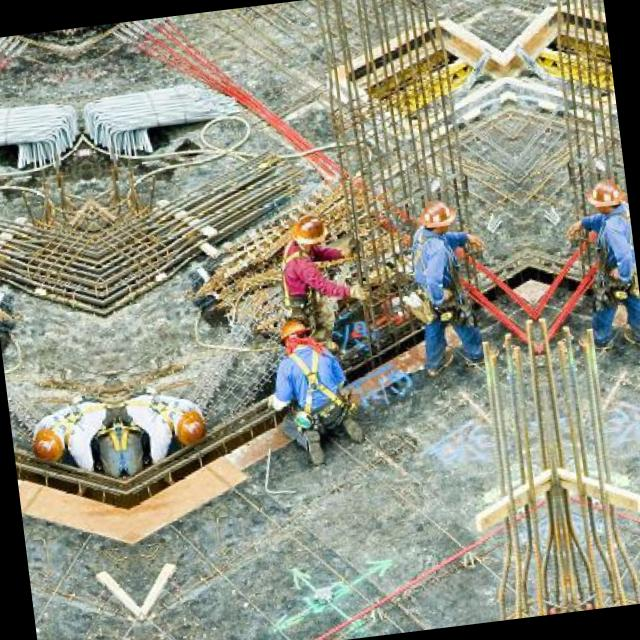helmet: (288, 212, 328, 252), (416, 197, 456, 235), (172, 406, 208, 448), (586, 177, 625, 214), (30, 424, 64, 466), (276, 316, 308, 352)
